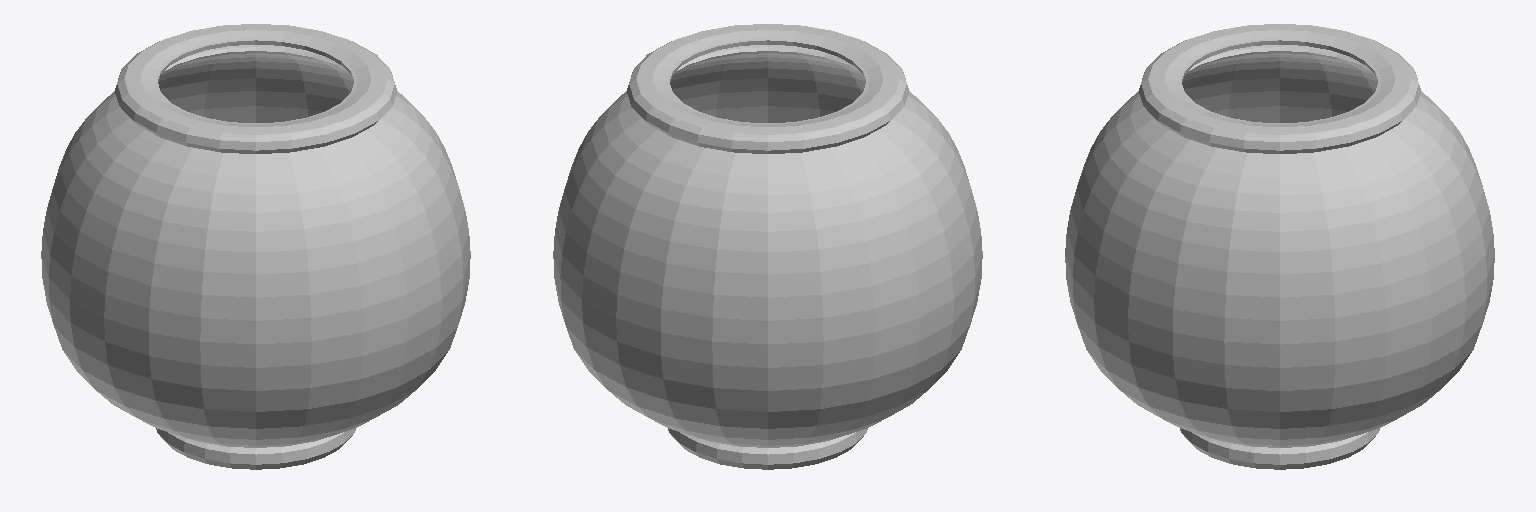
Rendered from FishAndBowl.obj.
3 views of the same model, side by side, from view 1: azimuth 30°, elevation 25°; view 2: azimuth 150°, elevation 25°; view 3: azimuth 270°, elevation 25° (orthographic).
Parts seen in each view (by area): view 1: FishBowl; view 2: FishBowl; view 3: FishBowl.
Boxes of the visible parts, x1,y1,x2,y2 form: FishBowl: [41, 24, 470, 469]; FishBowl: [553, 24, 982, 469]; FishBowl: [1065, 24, 1494, 469].
Bounding box in the file's own units: 26.52 × 24.15 × 26.52.